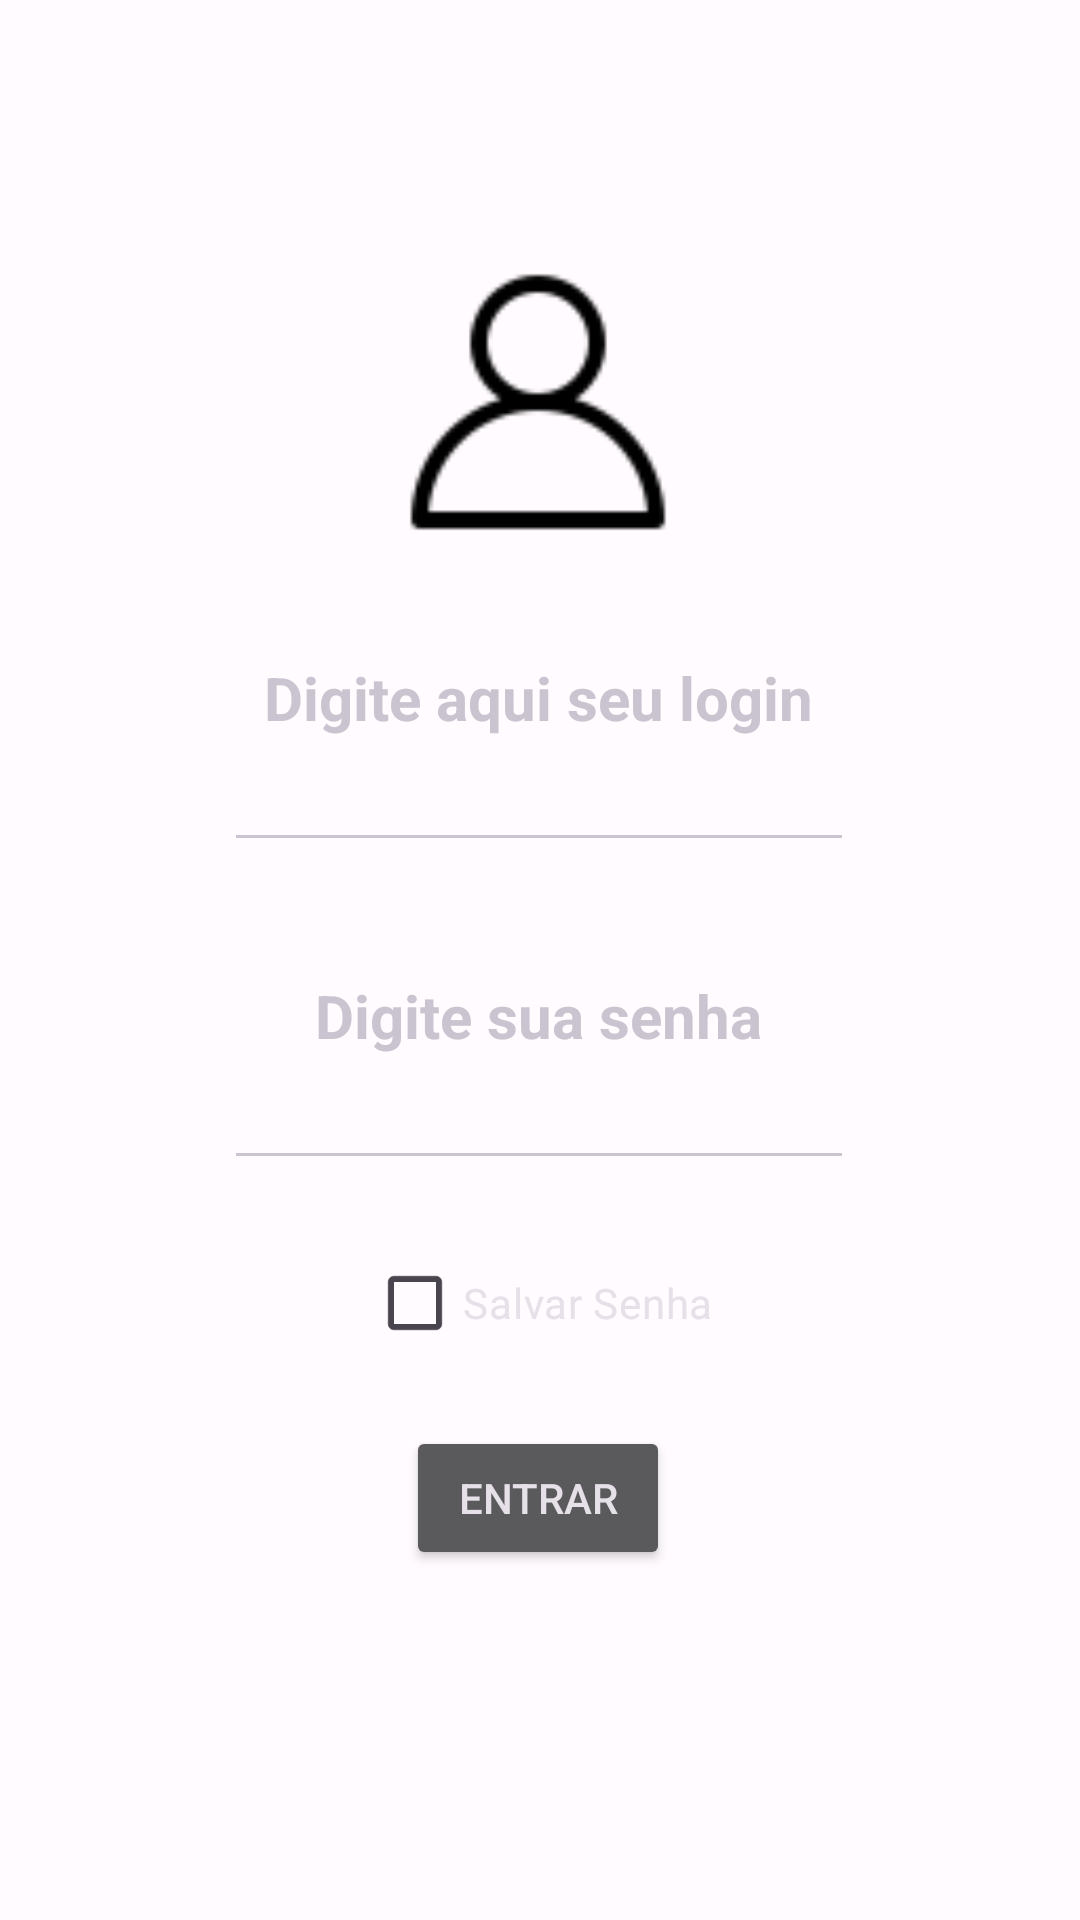

Named icons in this screenshot (1080 × 1920) and their centers, [x,y]:
USER: [538,402]
